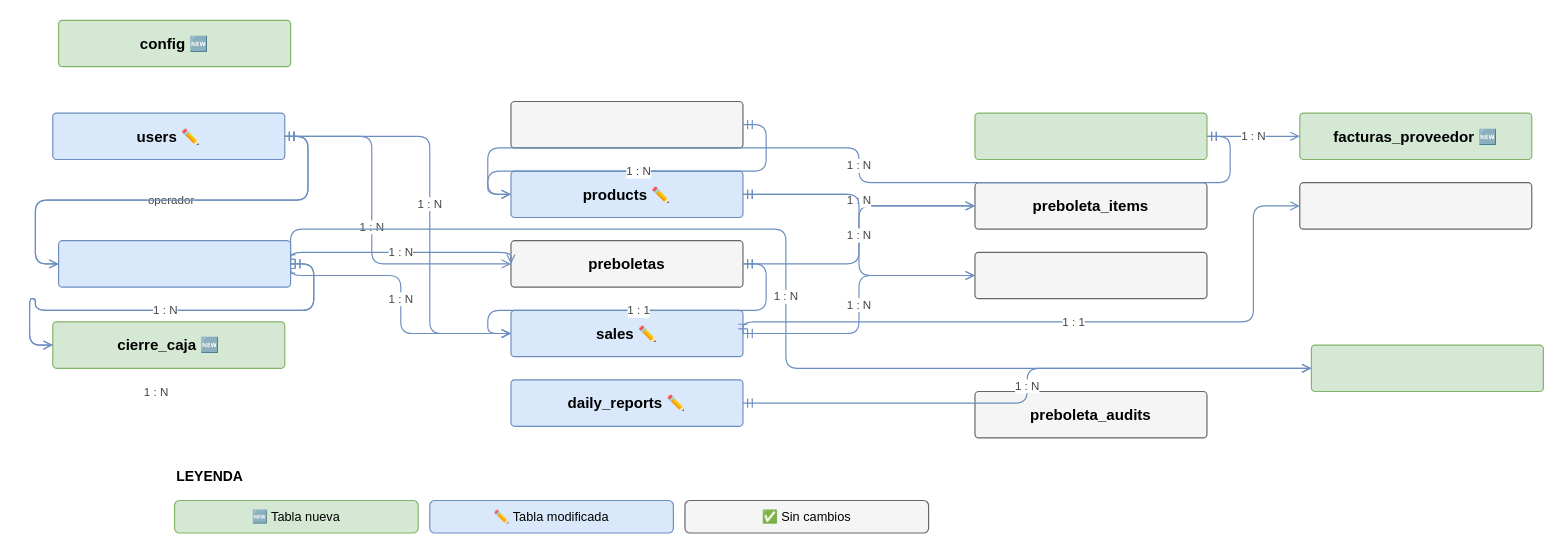
Some shapes in this 1564 by 553 pixel diagram are drawn without their labels. Each missing label, with the box of its shape:
categories: (510, 100, 743, 148)
daily_report_stations 🆕: (1310, 344, 1543, 392)
dte_transactions: (1299, 182, 1532, 229)
proveedores 🆕: (974, 112, 1207, 160)
sale_items: (974, 251, 1207, 299)
stations ✏️: (57, 240, 291, 287)
